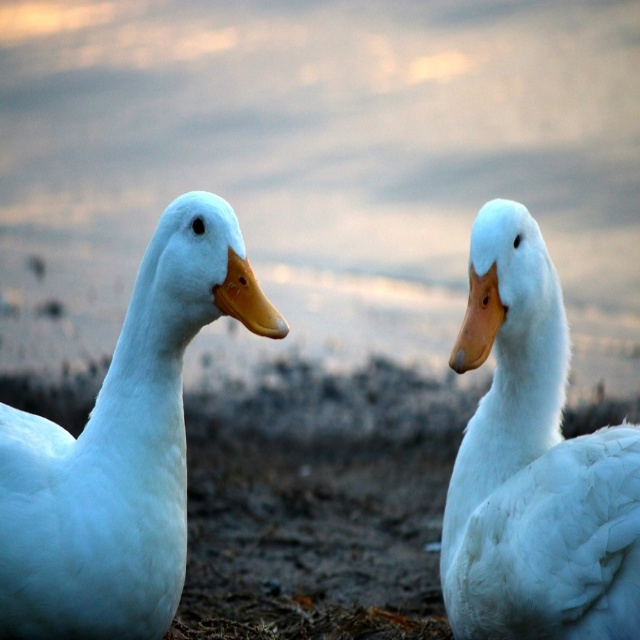Goose: (0, 187, 285, 640), (440, 194, 640, 639)
